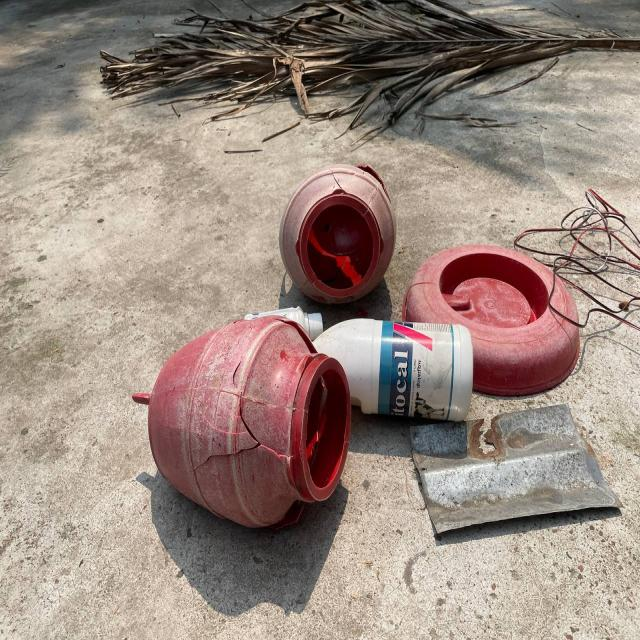Cable: (534, 175, 640, 364)
Metal: (398, 399, 630, 545)
Plastics: (105, 300, 406, 519), (419, 197, 561, 402), (253, 149, 402, 301)
